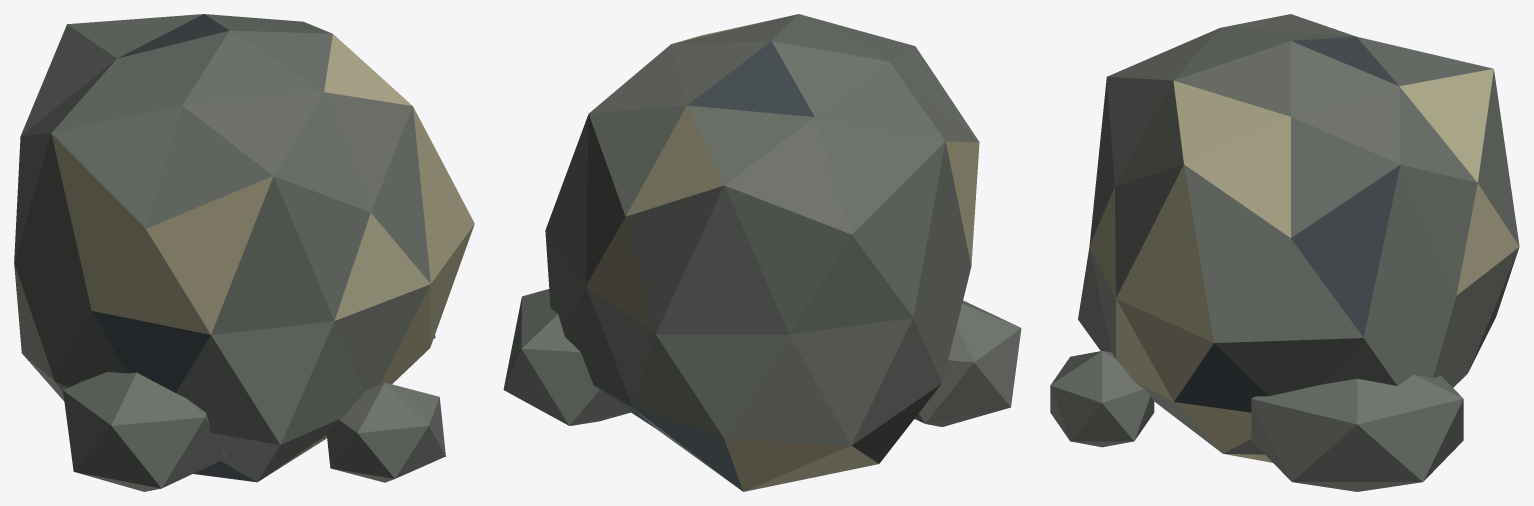
The model's file is rock_large.obj.
The picture shows the model from 3 angles, left to right: view 1: azimuth 30°, elevation 25°; view 2: azimuth 150°, elevation 25°; view 3: azimuth 270°, elevation 25°; orthographic projection. The views are drawn at different scales.
Visible parts, largest first — view 1: rock_large; view 2: rock_large; view 3: rock_large.
Part boxes in pixels (x1,y1,x2,y2): rock_large: [14, 14, 474, 491]; rock_large: [503, 14, 1021, 491]; rock_large: [1050, 14, 1519, 491].
Size of the model in its own units: 1 by 1 by 1.
